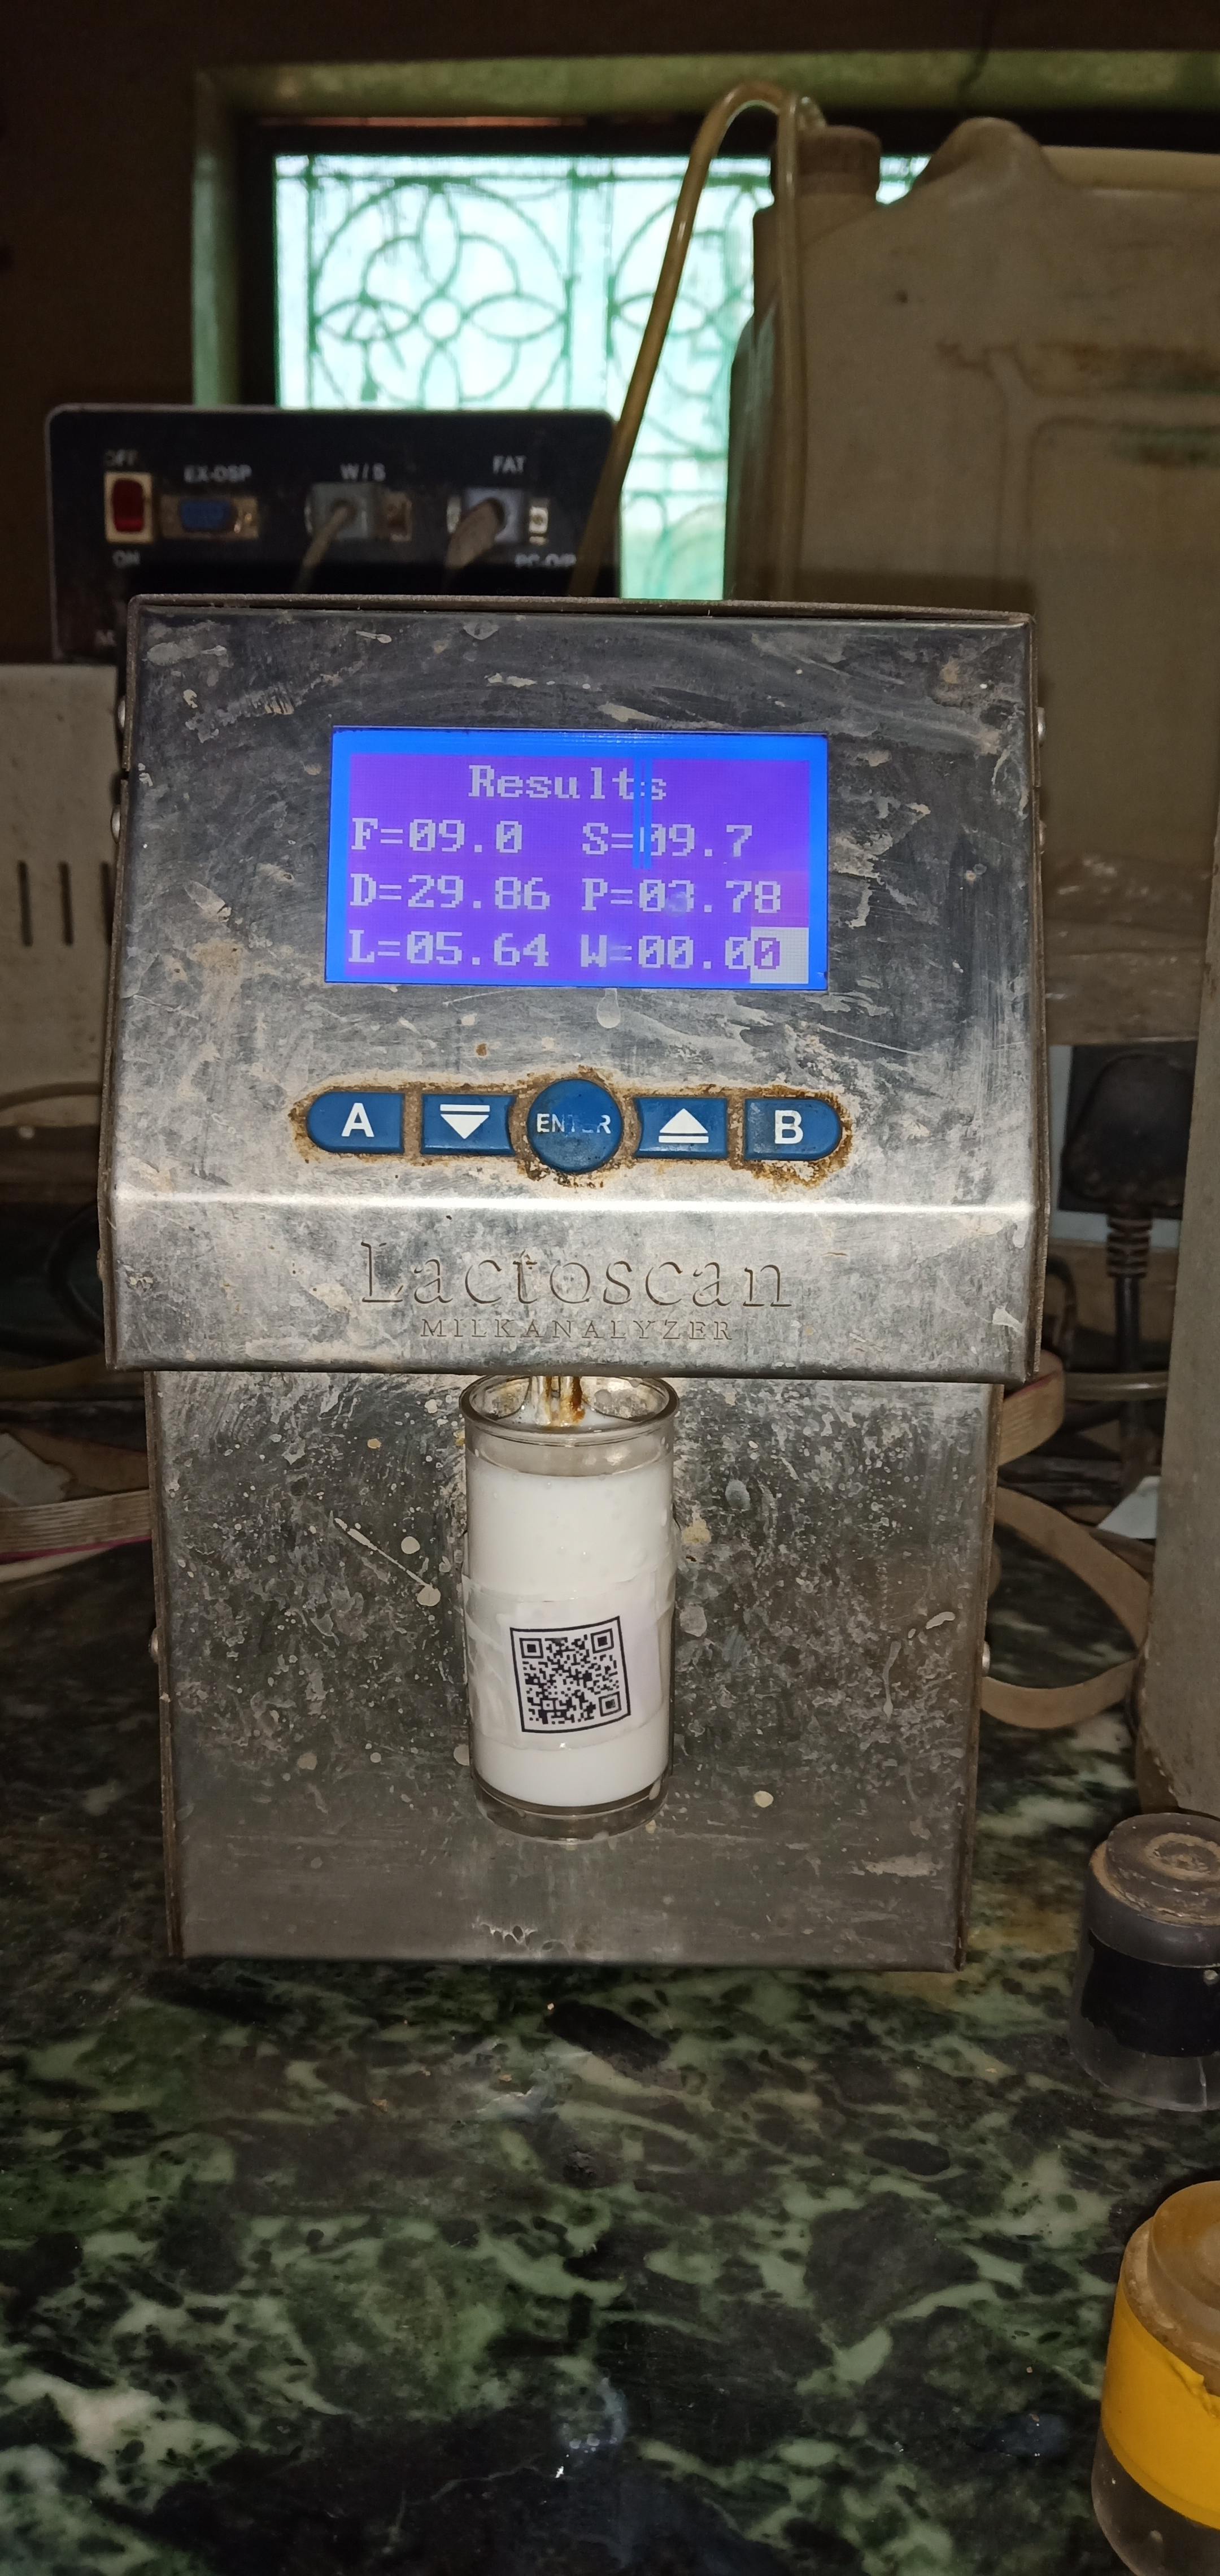lcd: (325, 706, 842, 1014)
qr: (502, 1623, 635, 1756)
